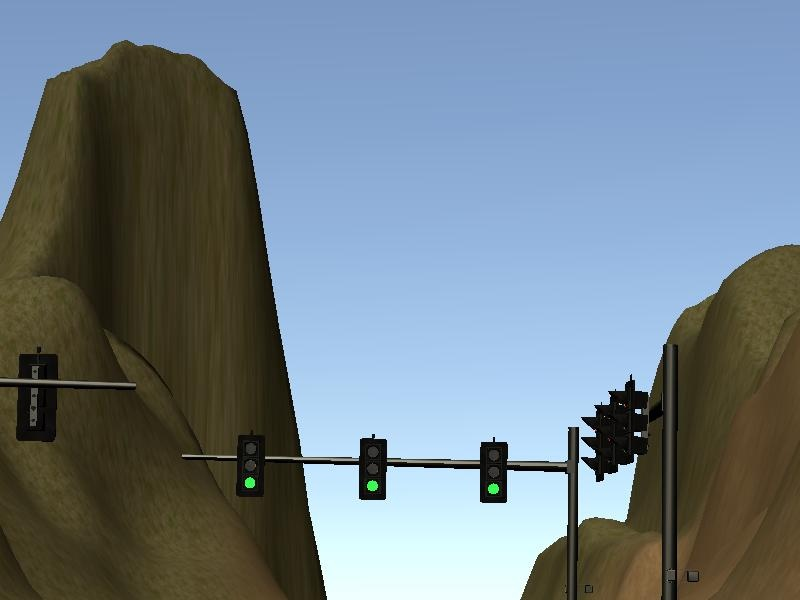GREEN: (236, 433, 264, 495), (358, 438, 386, 500), (479, 442, 507, 504)
